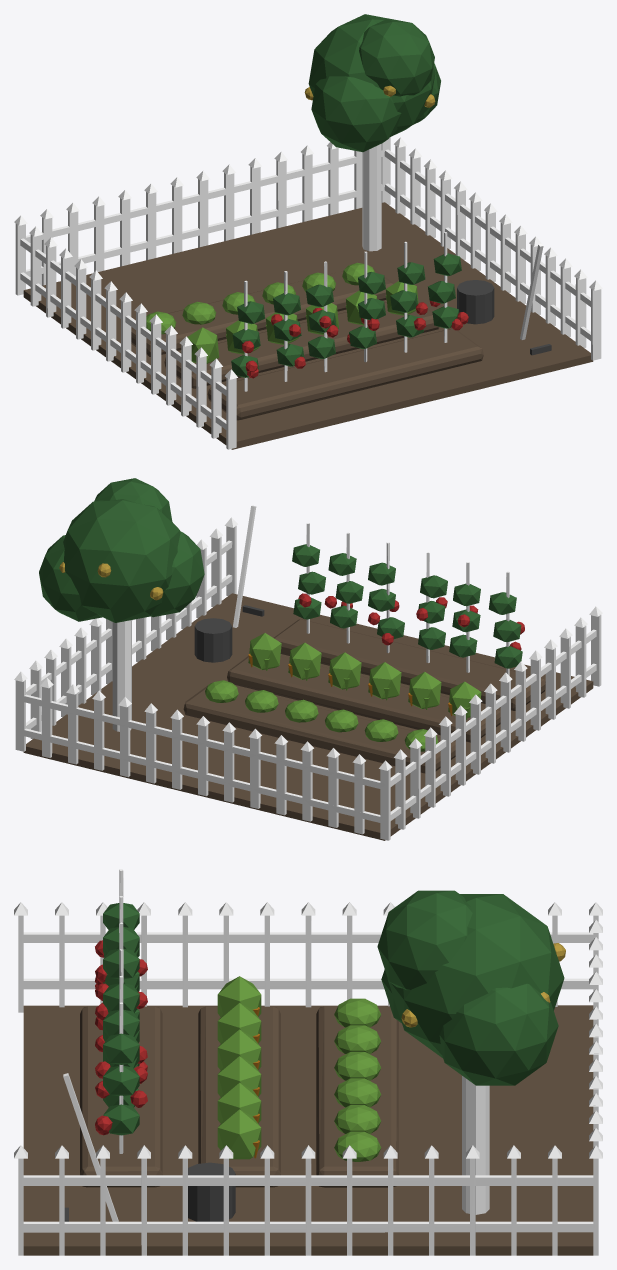
File: bahce.glb
3 views of the same model, one above another, from view 1: azimuth 30°, elevation 25°; view 2: azimuth 150°, elevation 25°; view 3: azimuth 270°, elevation 25° (orthographic). The views are drawn at different scales.
Visible parts, largest first — view 1: AgacGovde; view 2: AgacGovde; view 3: AgacGovde.
Boxes of the visible parts, x1,y1,x2,y2 form: AgacGovde: [14, 14, 602, 449]; AgacGovde: [14, 478, 602, 840]; AgacGovde: [14, 869, 602, 1255].
Bounding box in the file's own units: 1 × 0.6055 × 0.9807.
